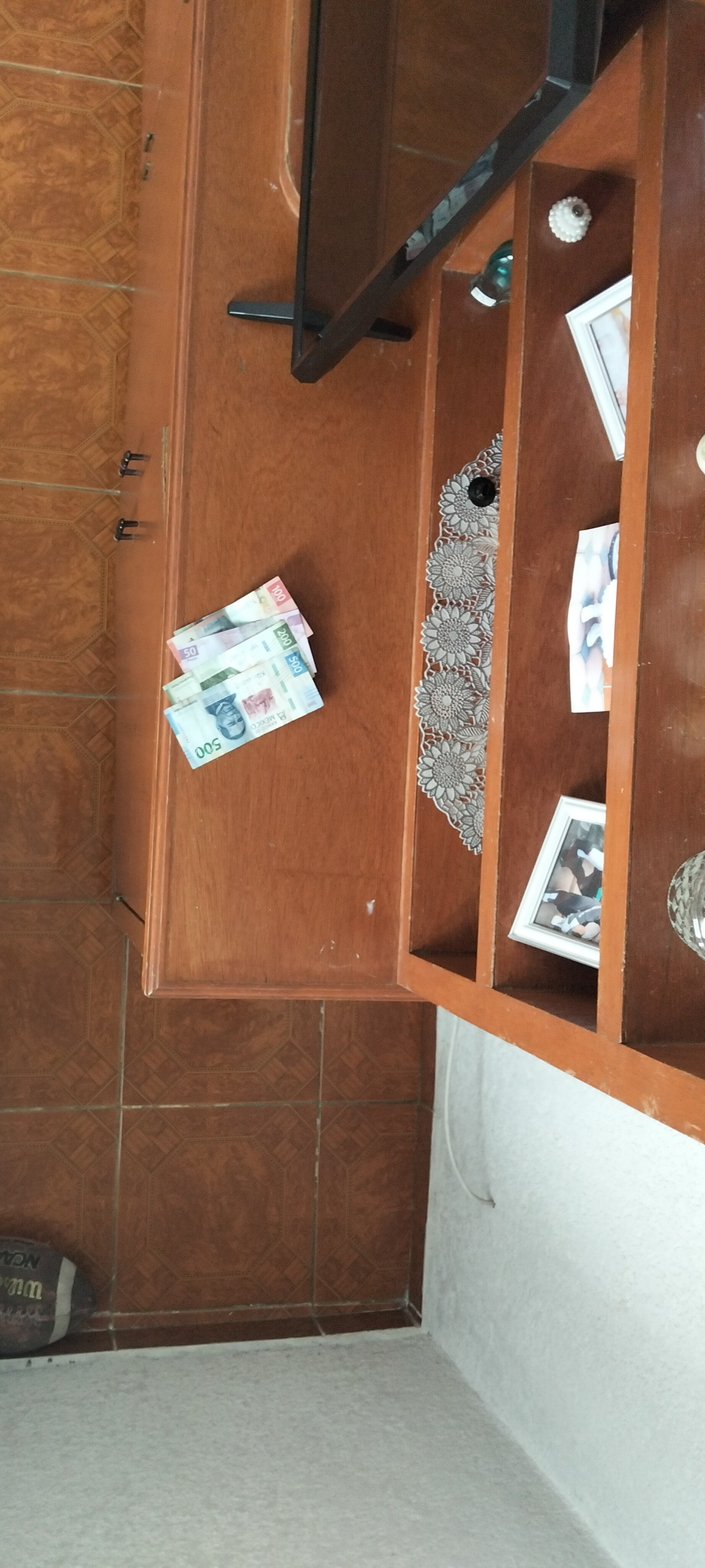billetes: (148, 554, 348, 791)
